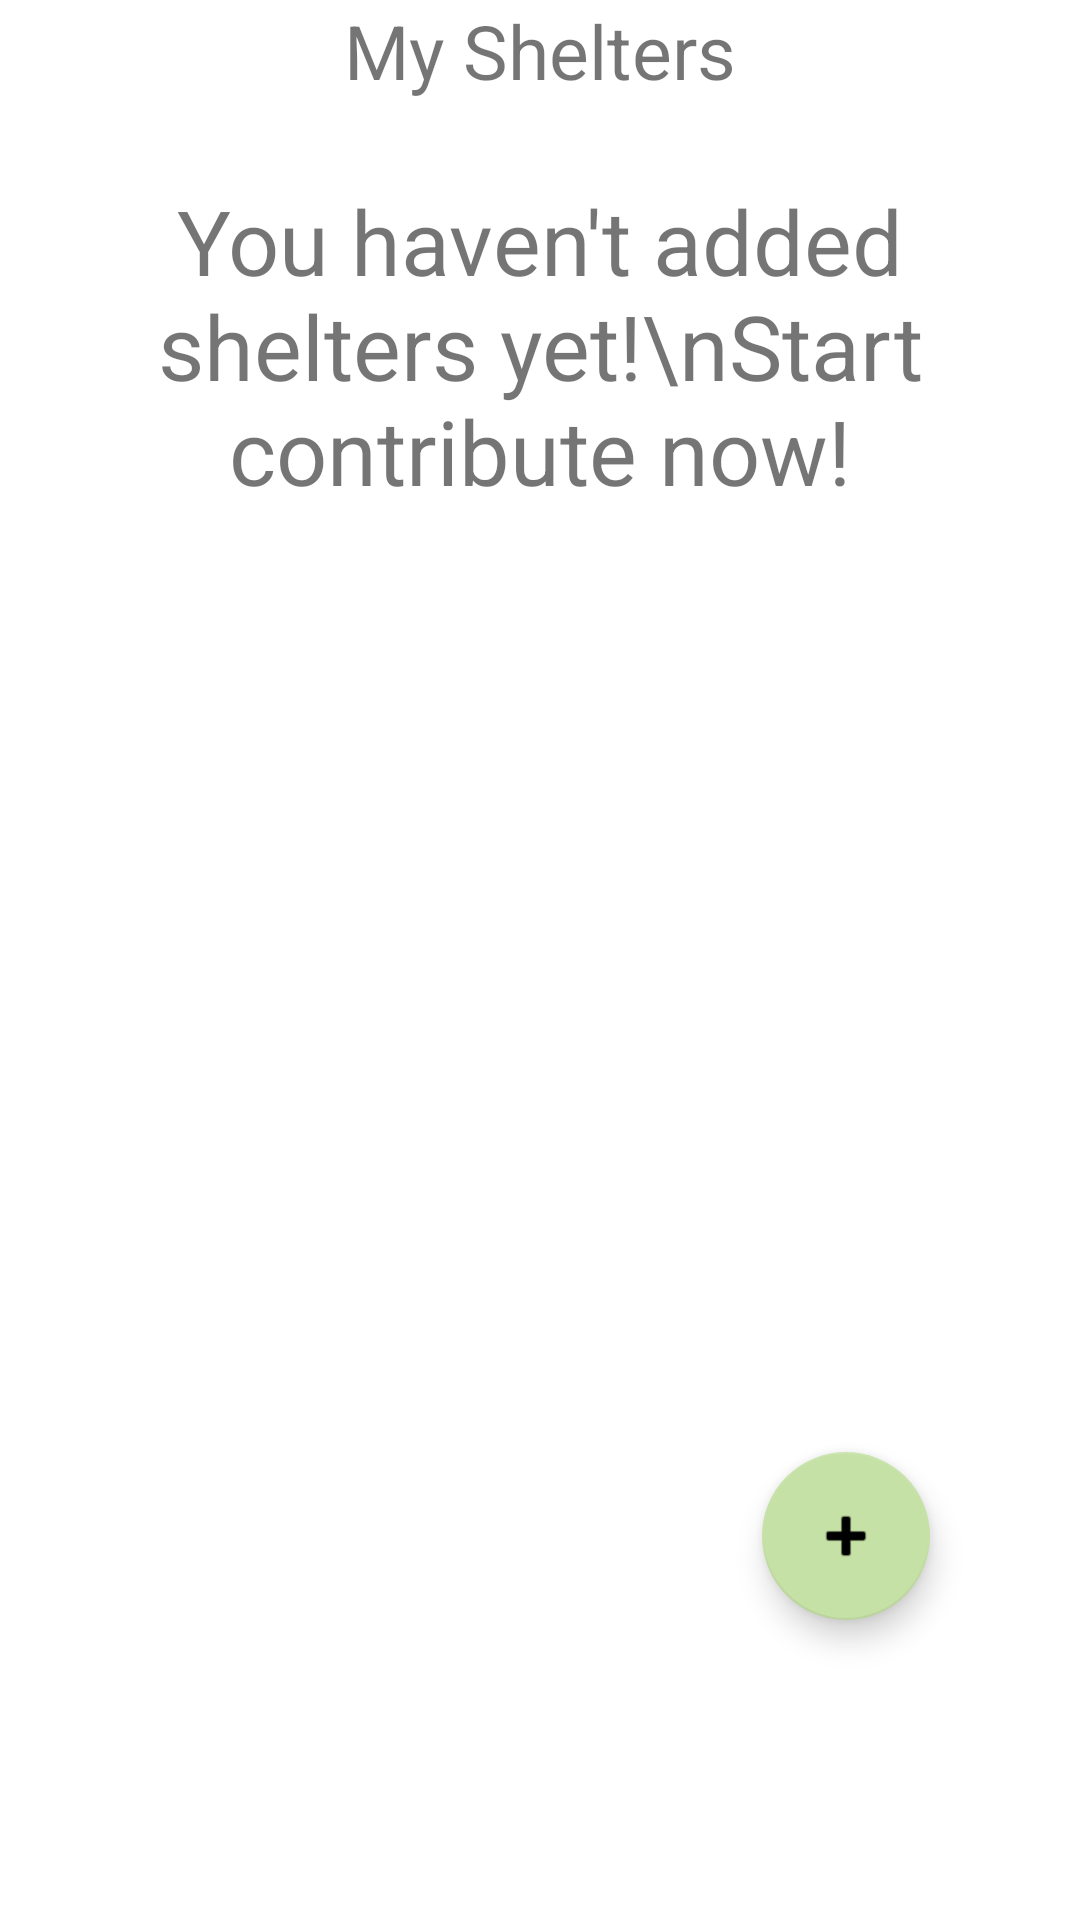

Icon bounding boxes for this 1080×1920 phone screenshot, format (x1, y1, x2, y2):
fab to add shelter: (762, 1452, 930, 1620)
